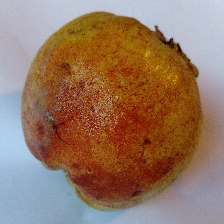guava: (29, 29, 210, 224)
